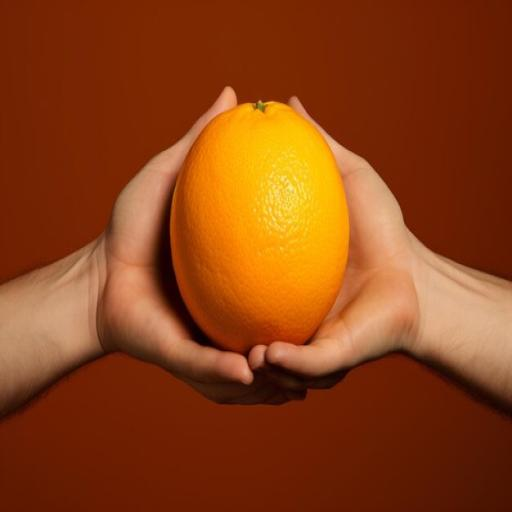orange: (171, 102, 349, 353)
